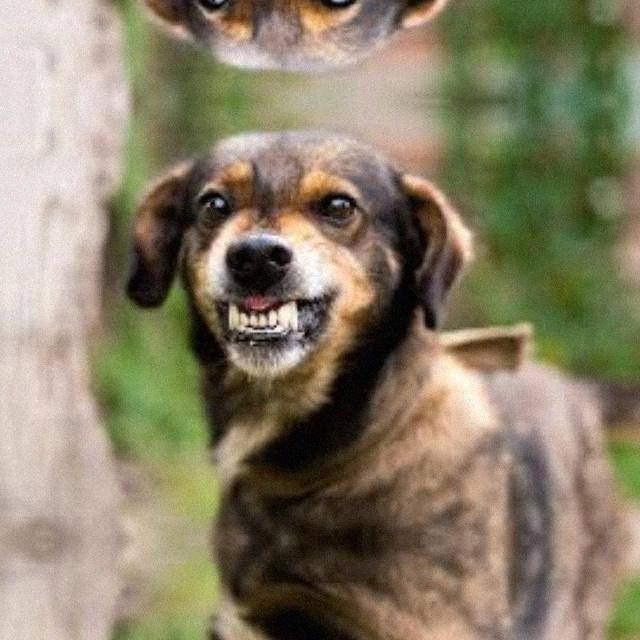dog: (109, 107, 495, 409), (109, 0, 495, 93)
